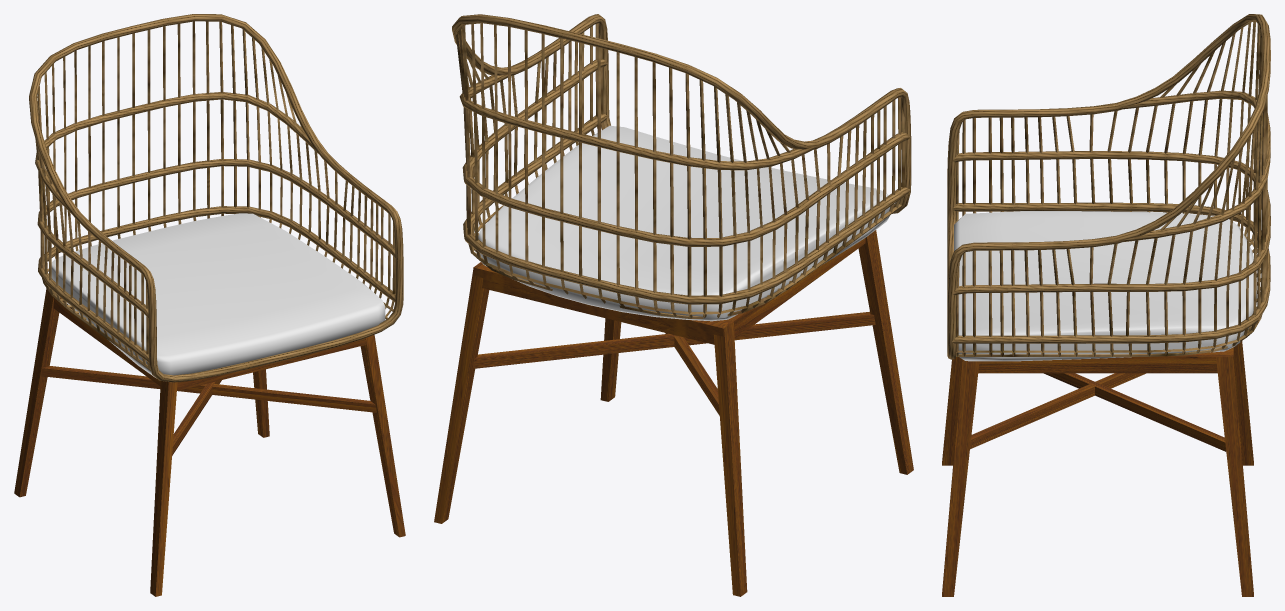
File: Lala-Chair.glb
3 views of the same model, side by side, from view 1: azimuth 30°, elevation 25°; view 2: azimuth 150°, elevation 25°; view 3: azimuth 270°, elevation 25° (orthographic). The views are drawn at different scales.
Parts seen in each view (by area): view 1: Cube.012, Cube.011, Cube.010, Cube.009, Cube.016, Cube.018, Cube.015, Cube.017; view 2: Cube.012, Cube.011, Cube.010, Cube.016, Cube.009, Cube.015, Cube.017, Cube.018; view 3: Cube.012, Cube.011, Cube.010, Cube.016, Cube.009, Cube.015, Cube.017, Cube.018.
Part boxes in pixels (x1,y1,x2,y2): Cube.012: (51,213,385,378); Cube.011: (35,21,395,370); Cube.010: (35,92,395,362); Cube.009: (29,14,403,382); Cube.016: (14,288,405,596); Cube.018: (41,366,376,412); Cube.015: (53,297,366,390); Cube.017: (172,380,221,455); Cube.012: (478,125,890,321); Cube.011: (456,23,904,318); Cube.010: (459,59,910,304); Cube.016: (434,230,913,596); Cube.009: (452,14,911,213); Cube.015: (473,238,865,344); Cube.017: (473,311,875,368); Cube.018: (665,333,719,415); Cube.012: (954,211,1256,361); Cube.011: (956,22,1267,356); Cube.010: (952,90,1270,343); Cube.016: (942,341,1253,596); Cube.009: (947,14,1270,359); Cube.015: (978,347,1233,373); Cube.017: (1044,373,1226,451); Cube.018: (970,373,1145,449).
Bounding box in the file's own units: 0.5555 × 0.9034 × 0.5644.
Materials: 3 (2 with a texture image).
